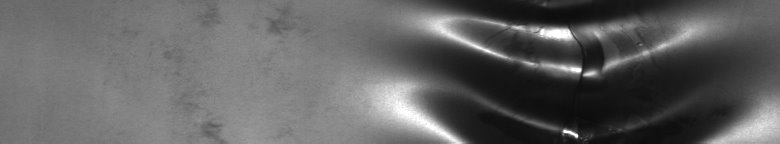ke: (412, 4, 744, 136)
